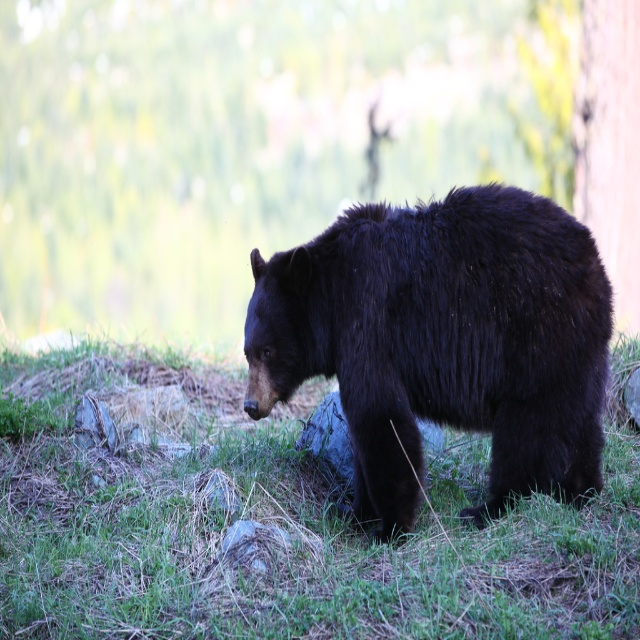Bear: (242, 182, 613, 545)
